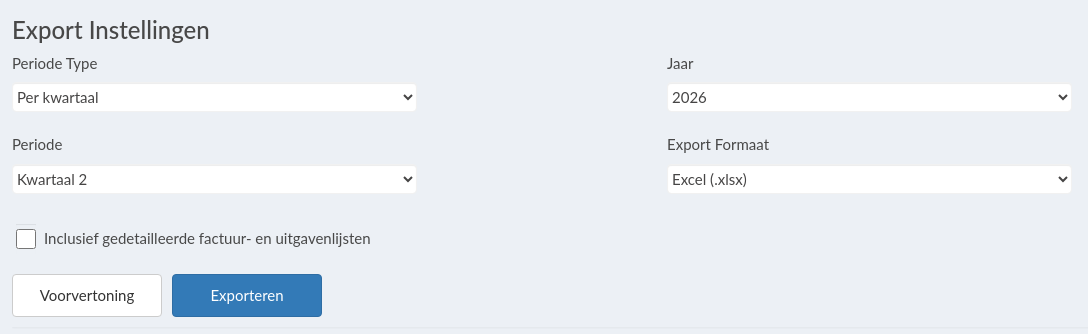
Test: VATReturnExport › disables both action buttons until a period is selected
Expected: the heading "Export Instellingen" is shown, [12, 15, 210, 44]
Force the period back to the empty placeholder.
Select "Selecteer periode" in the dropdown labelled "Periode" at (214, 179), box [12, 164, 417, 194]
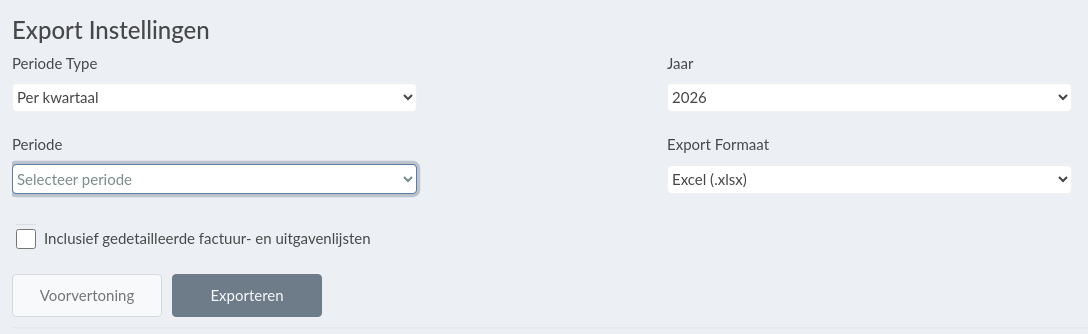
Now the button "Exporteren" is disabled, box [172, 274, 322, 317]
Now the button "Voorvertoning" is disabled, box [12, 274, 162, 317]
Select "Kwartaal 2" in the dropdown labelled "Periode" at (214, 179), box [12, 164, 417, 194]
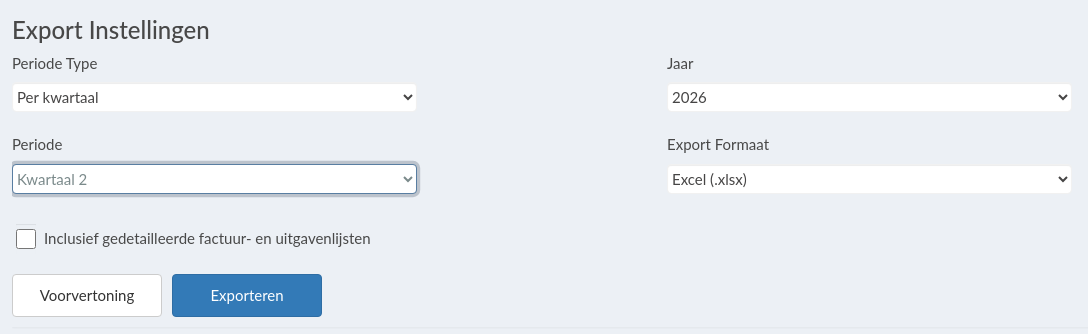
Now the button "Exporteren" is enabled, box [172, 274, 322, 317]
